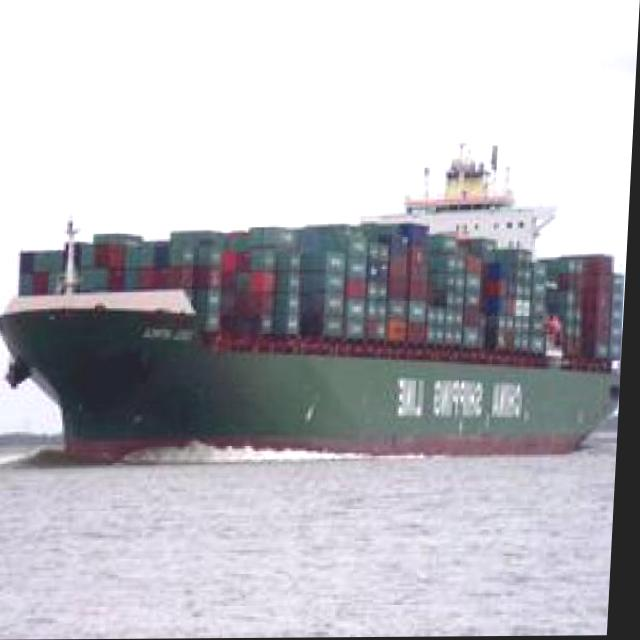ship2: (0, 144, 628, 465)
